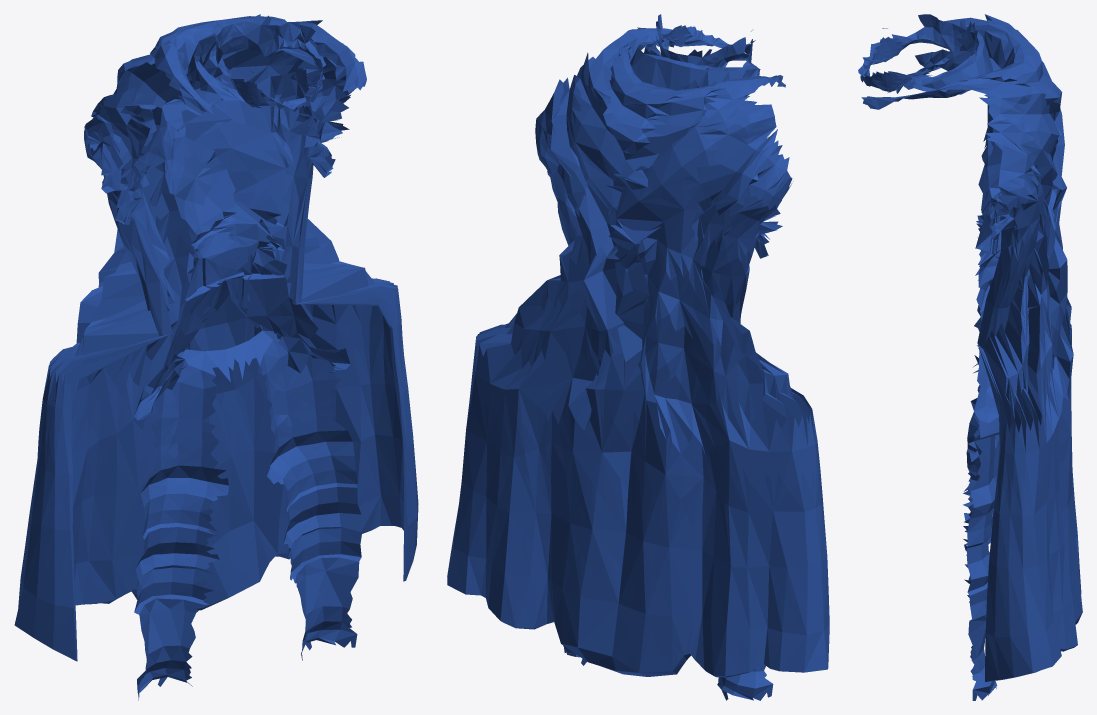
Rendered from kleidung.umhang.v003.glb.
The picture shows the model from 3 angles, left to right: view 1: azimuth 30°, elevation 25°; view 2: azimuth 150°, elevation 25°; view 3: azimuth 270°, elevation 25°; orthographic projection. The views are drawn at different scales.
Parts seen in each view (by area): view 1: kleidung.umhang.v003.001; view 2: kleidung.umhang.v003.001; view 3: kleidung.umhang.v003.001.
Boxes of the visible parts, x1,y1,x2,y2 form: kleidung.umhang.v003.001: (14, 14, 418, 700); kleidung.umhang.v003.001: (447, 14, 829, 700); kleidung.umhang.v003.001: (858, 14, 1082, 700).
Bounding box in the file's own units: 0.9208 × 1.46 × 0.4814.
